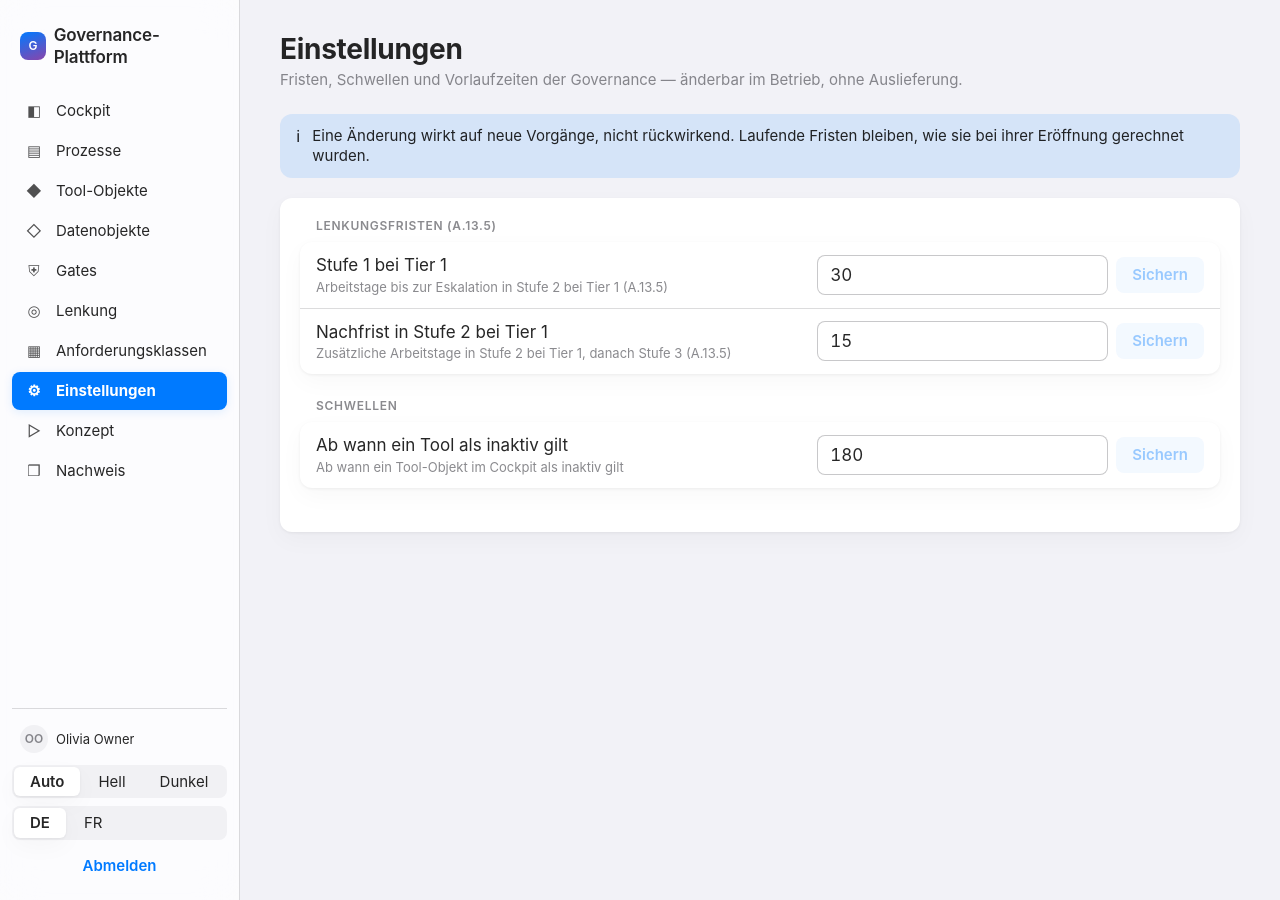
Test case: Governance-Einstellungen › sichert eine geaenderte Frist
Replace the text in the field named "Stufe 1 bei Tier 1" in the row of "Stufe 1 bei Tier 1" with "20" at (963, 275), box [817, 255, 1108, 295]
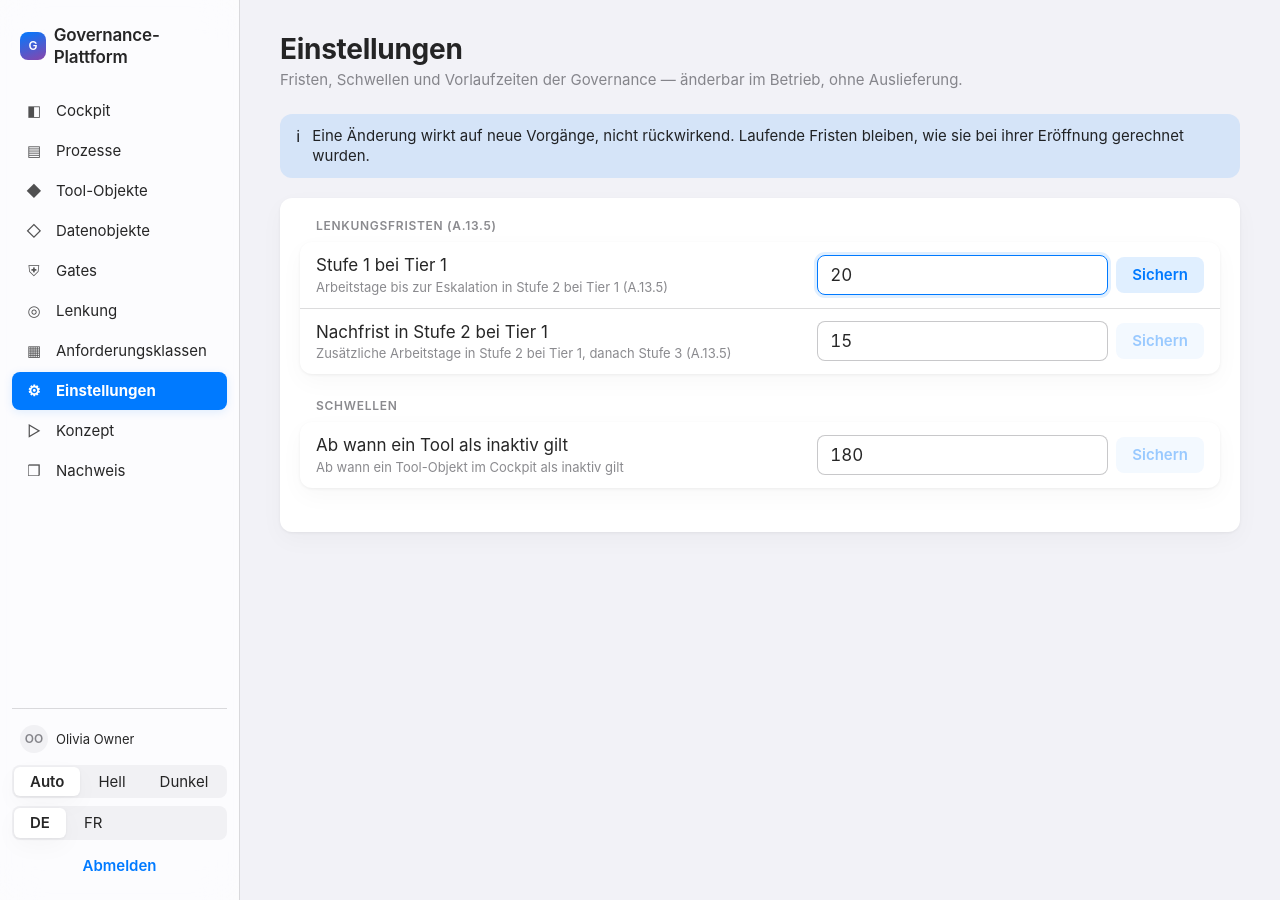
Click the button with test id "sichern-lenkung_frist_tage_tier1" at (1160, 275), box [1116, 257, 1204, 293]
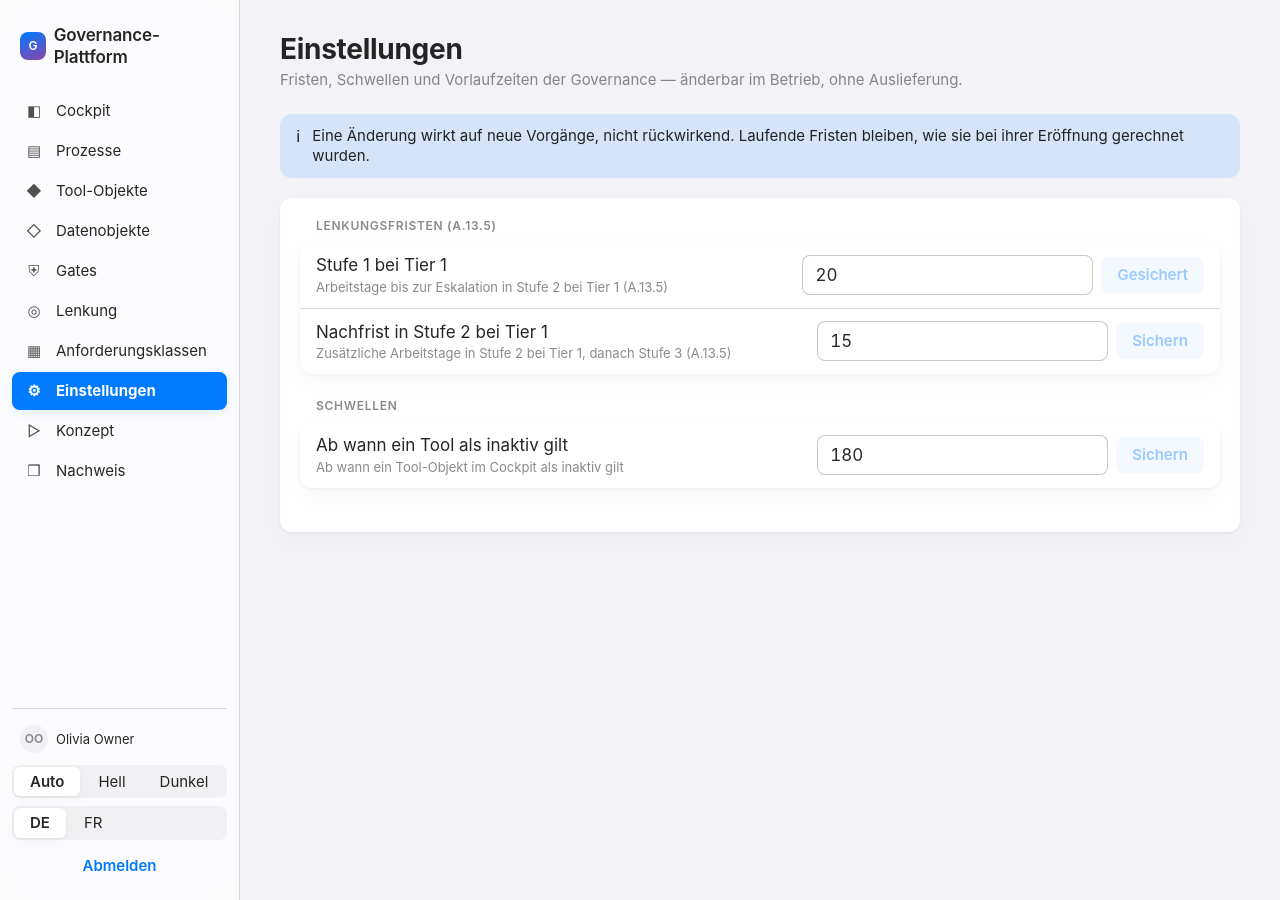
Check: the button "Gesichert" is shown, box [1101, 257, 1204, 293]
